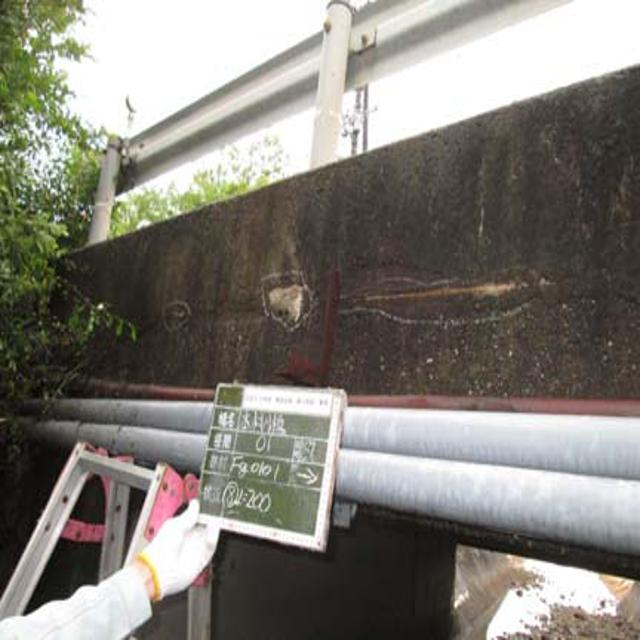freelime: (364, 276, 556, 314), (256, 267, 310, 333)
